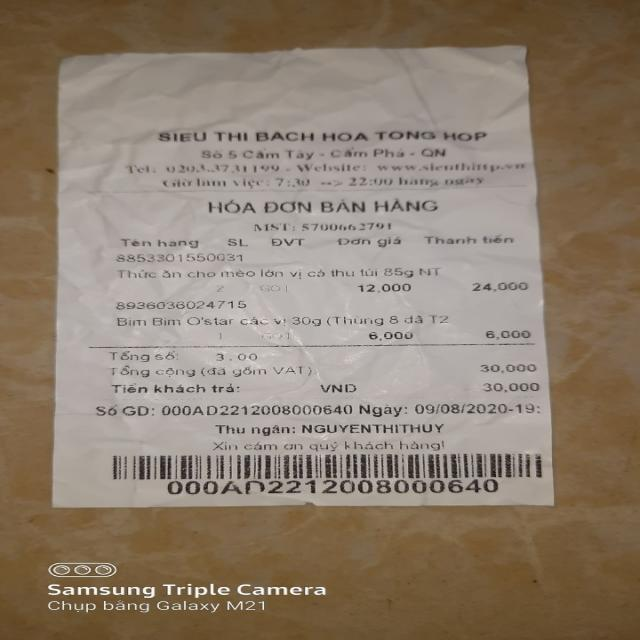Date: (411, 401, 506, 415)
Store_Name: (154, 128, 495, 143)
amount_number: (477, 361, 542, 373)
label_total: (106, 365, 199, 378)
